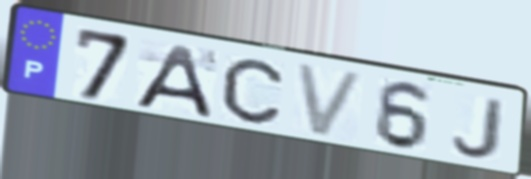6: (373, 79, 434, 154)
7: (72, 24, 133, 104)
A: (130, 42, 216, 120)
C: (219, 56, 286, 127)
J: (449, 95, 509, 161)
V: (292, 60, 370, 141)
